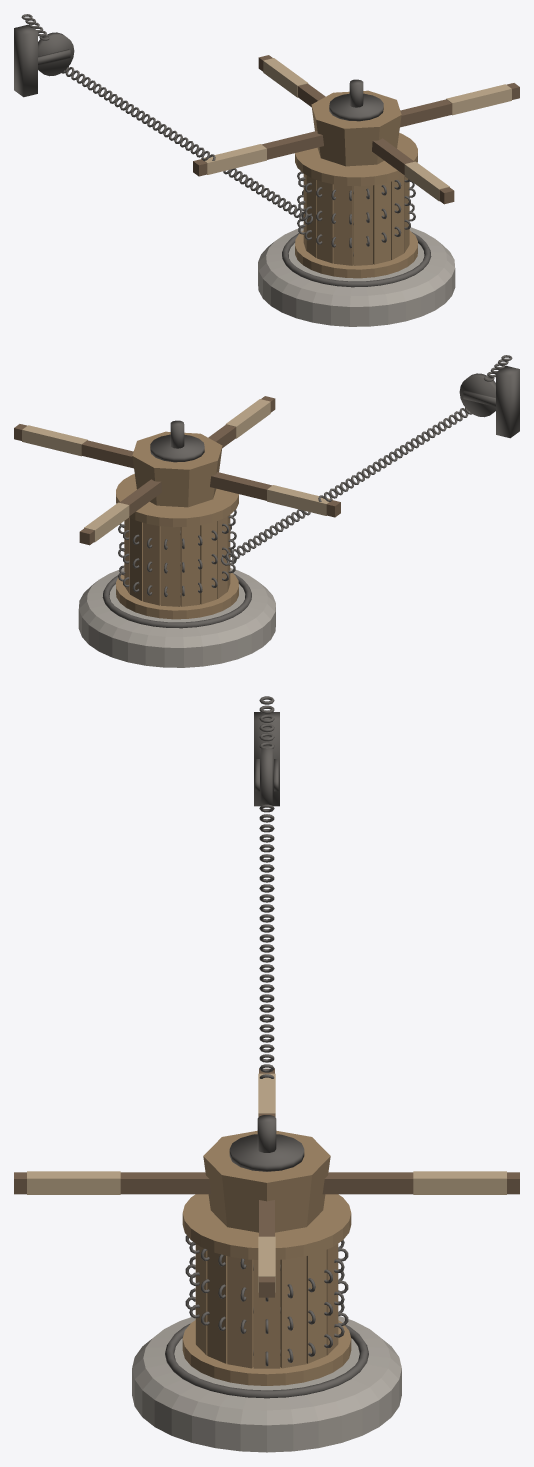
Rendered from winch.glb.
3 renders of one model, top to bottom at view 1: azimuth 30°, elevation 25°; view 2: azimuth 150°, elevation 25°; view 3: azimuth 270°, elevation 25°, orthographic. The views are drawn at different scales.
Visible parts, largest first — view 1: drum, capstan_socket, winch_chain, capstan_ring; view 2: drum, capstan_socket, winch_chain, capstan_ring; view 3: drum, capstan_socket, winch_chain, capstan_ring.
Boxes of the visible parts, x1,y1,x2,y2 form: drum: (193, 55, 519, 278); capstan_socket: (258, 227, 455, 326); winch_chain: (14, 14, 313, 224); capstan_ring: (282, 232, 431, 287); drum: (14, 396, 340, 619); capstan_socket: (78, 568, 275, 667); winch_chain: (220, 355, 519, 565); capstan_ring: (102, 573, 251, 628); drum: (14, 1068, 519, 1385); capstan_socket: (132, 1316, 401, 1452); winch_chain: (254, 696, 279, 1078); capstan_ring: (165, 1323, 368, 1398).
Size of the model in its own units: 4.19 by 2.81 by 2.7.
